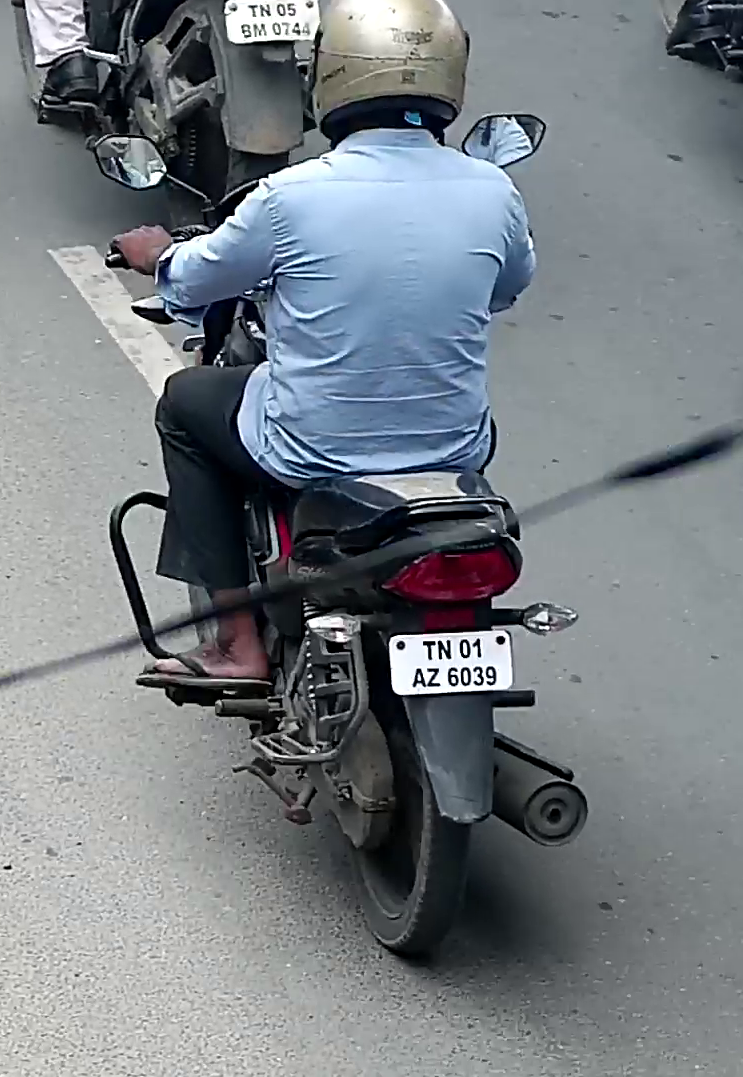0: (459, 639, 471, 659), (460, 666, 472, 686)
1: (471, 637, 482, 659)
3: (473, 666, 484, 686)
6: (447, 667, 459, 687)
9: (484, 665, 497, 686)
A: (411, 668, 426, 688)
N: (437, 638, 452, 661)
P16: (387, 629, 514, 697)
T: (422, 640, 436, 661)
Z: (426, 667, 441, 688)
